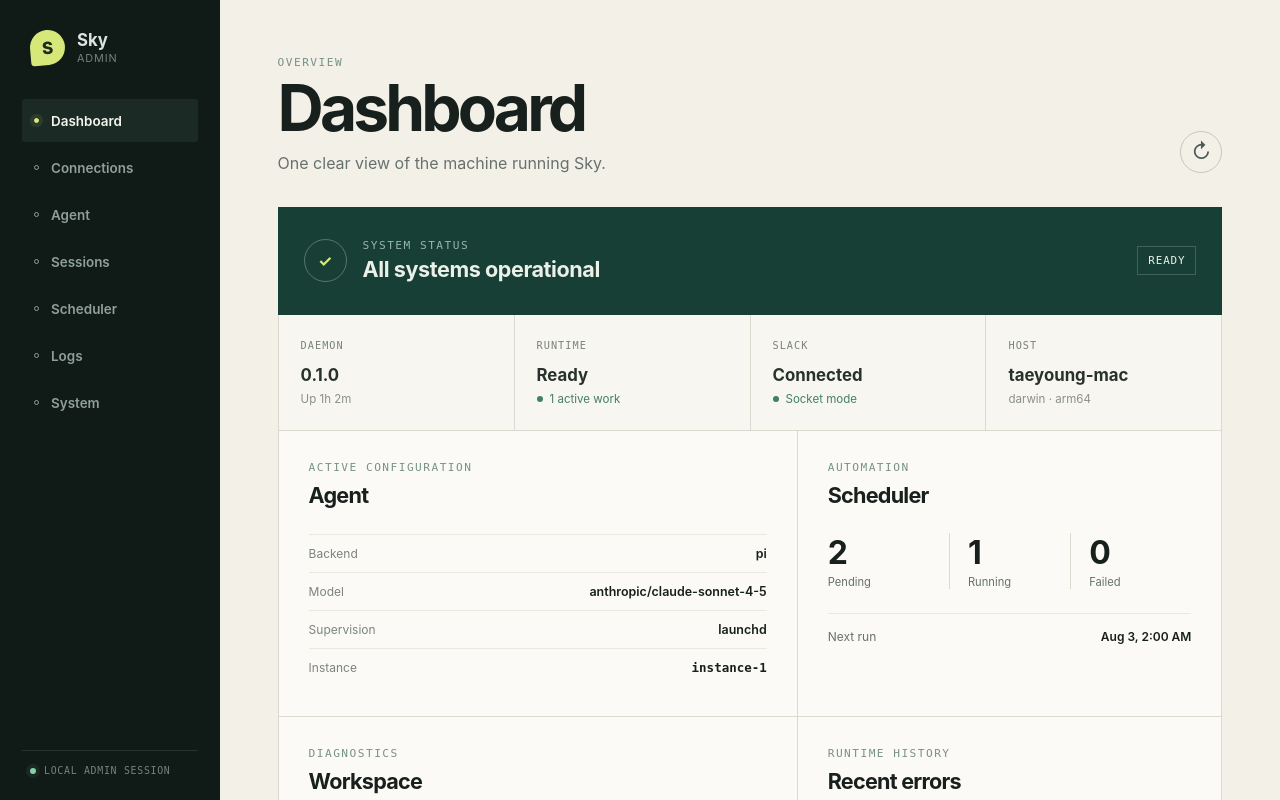
it: distinguishes a lost daemon connection after the dashboard was loaded
expect the message "System status" is shown: met, box [278,207,1222,315]
Click the button named "Refresh dashboard".
click(1201, 152)  # box [1180,131,1222,173]
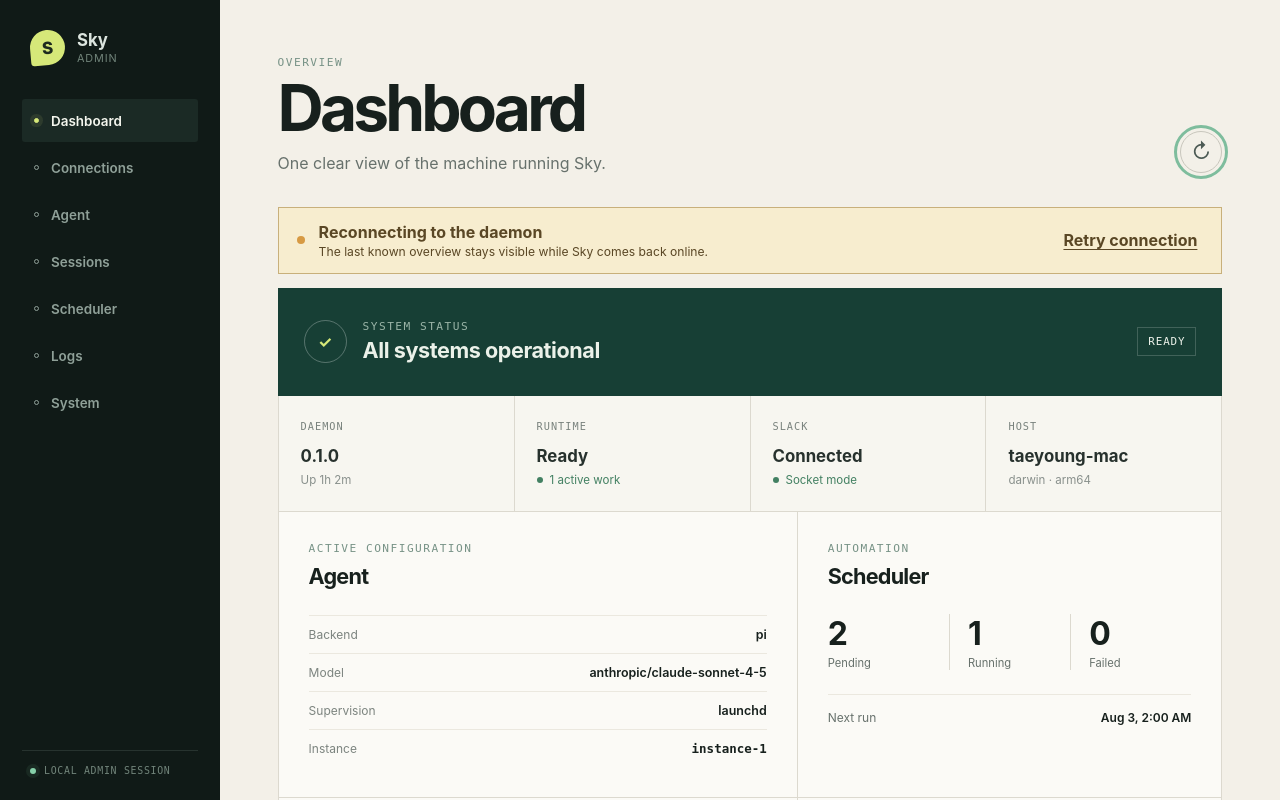
expect the message named "Daemon connection" shows "Reconnecting to the daemon": met, box [319,222,542,242]
expect the button "Retry connection" is shown: met, box [1058,229,1204,251]
